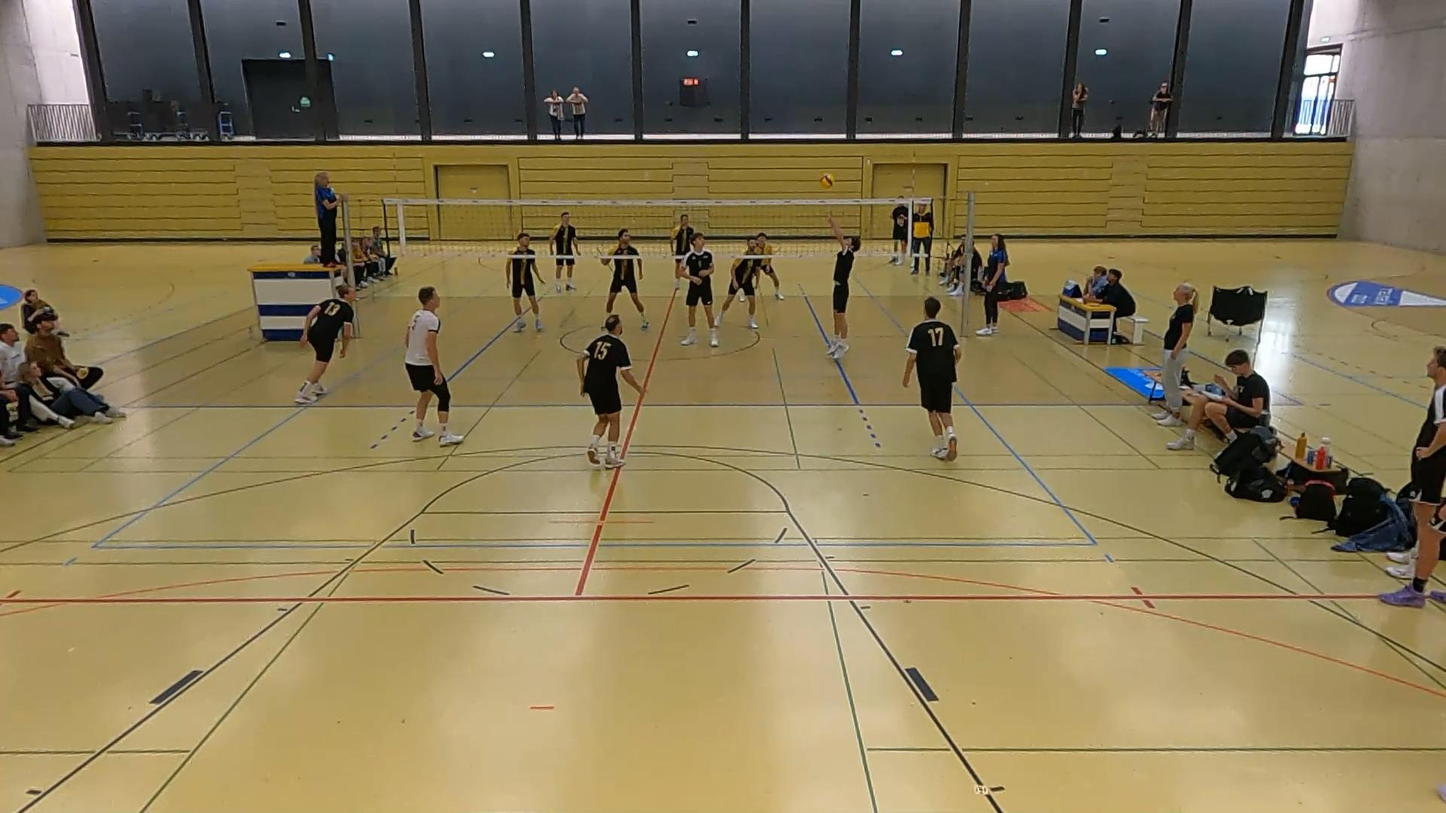Player: (577, 315, 643, 467), (903, 297, 961, 461), (404, 287, 463, 446), (295, 284, 355, 404), (601, 229, 648, 329), (681, 232, 718, 345), (712, 239, 758, 329), (506, 232, 542, 332), (551, 212, 577, 292), (755, 231, 784, 300), (670, 214, 695, 290)
Set: (812, 216, 872, 365)
ball: (816, 172, 838, 191)
